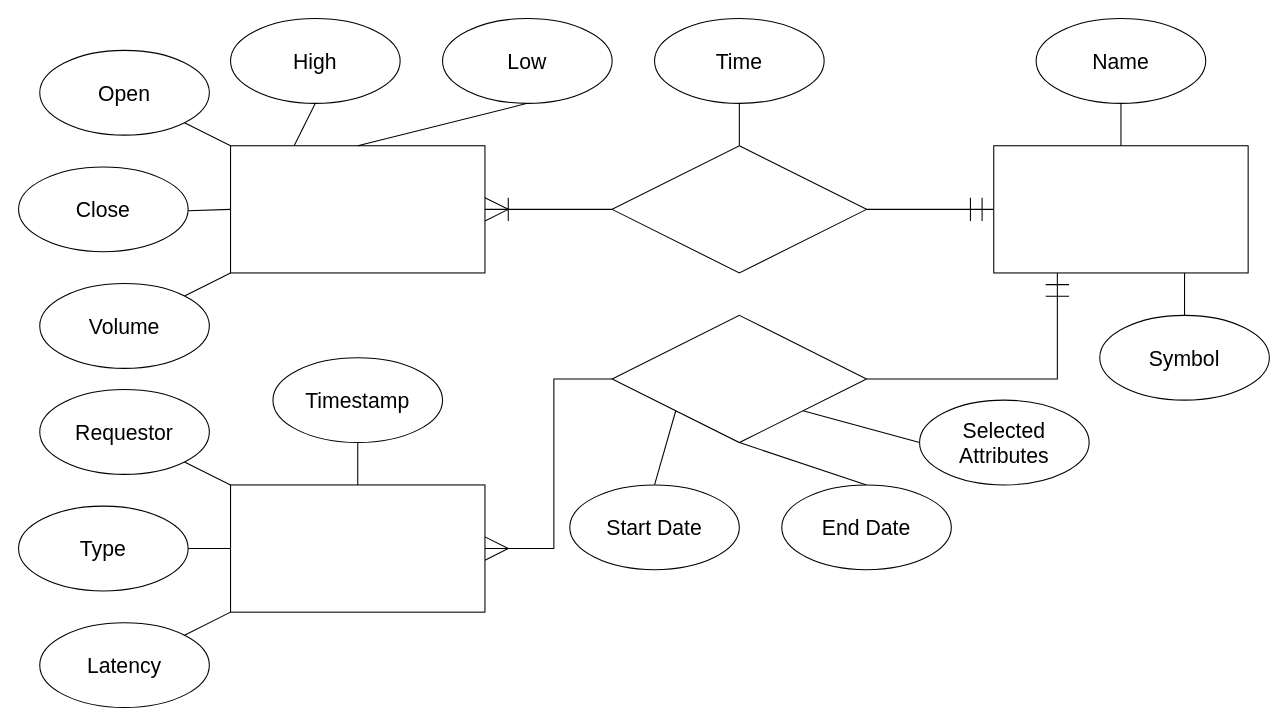
This 1288x726 diagram has some shape labels left out. Here are the shapes that lost their labels. From the top down, the centre of each, then its label:
point (357, 209): Ticker
point (739, 209): Traded
point (1120, 209): Stock
point (739, 378): Selects
point (357, 548): Usage
